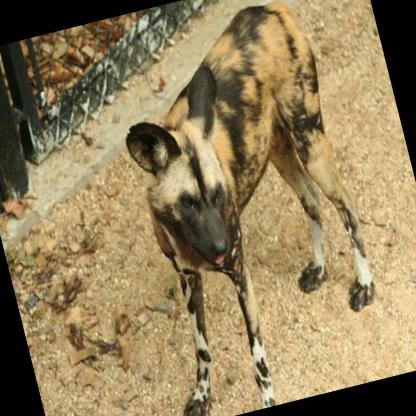African_hunting_dog: (88, 0, 400, 416)
